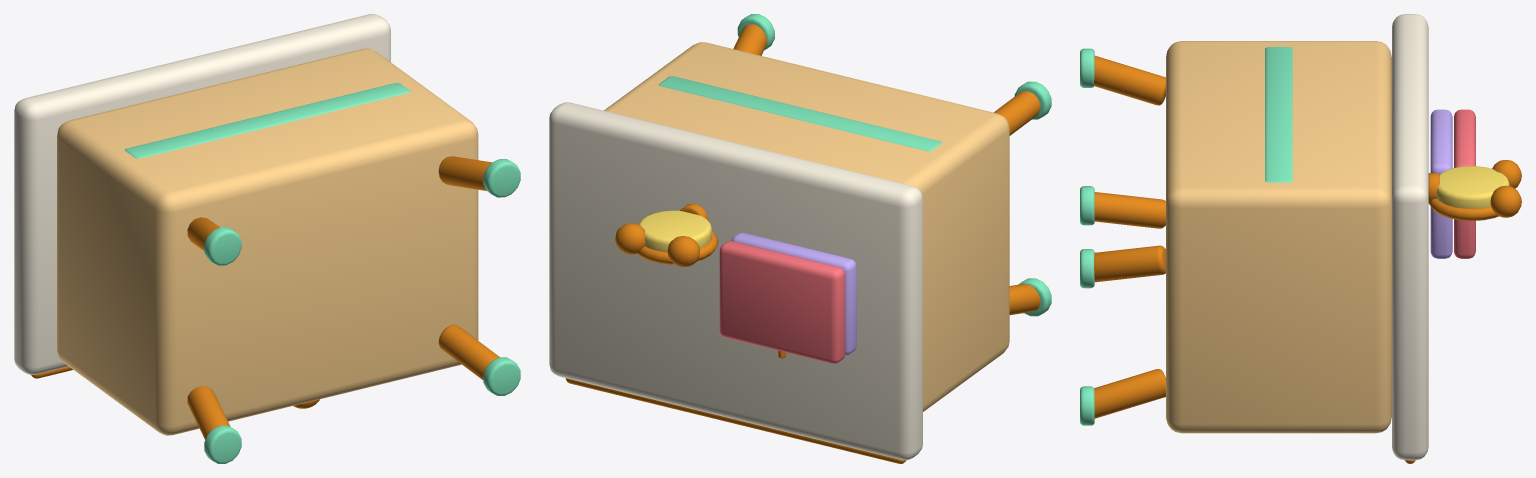
File: BedroomNightstand_Premium.fbx
The picture shows the model from 3 angles, left to right: view 1: azimuth 30°, elevation 25°; view 2: azimuth 150°, elevation 25°; view 3: azimuth 270°, elevation 25°; orthographic projection.
Visible parts, largest first — view 1: BedroomNightstand; view 2: BedroomNightstand; view 3: BedroomNightstand.
Part boxes in pixels (x1,y1,x2,y2): BedroomNightstand: (14, 14, 520, 463); BedroomNightstand: (549, 14, 1051, 463); BedroomNightstand: (1080, 14, 1521, 463).
Bounding box in the file's own units: 0.7 × 0.5057 × 0.72.
